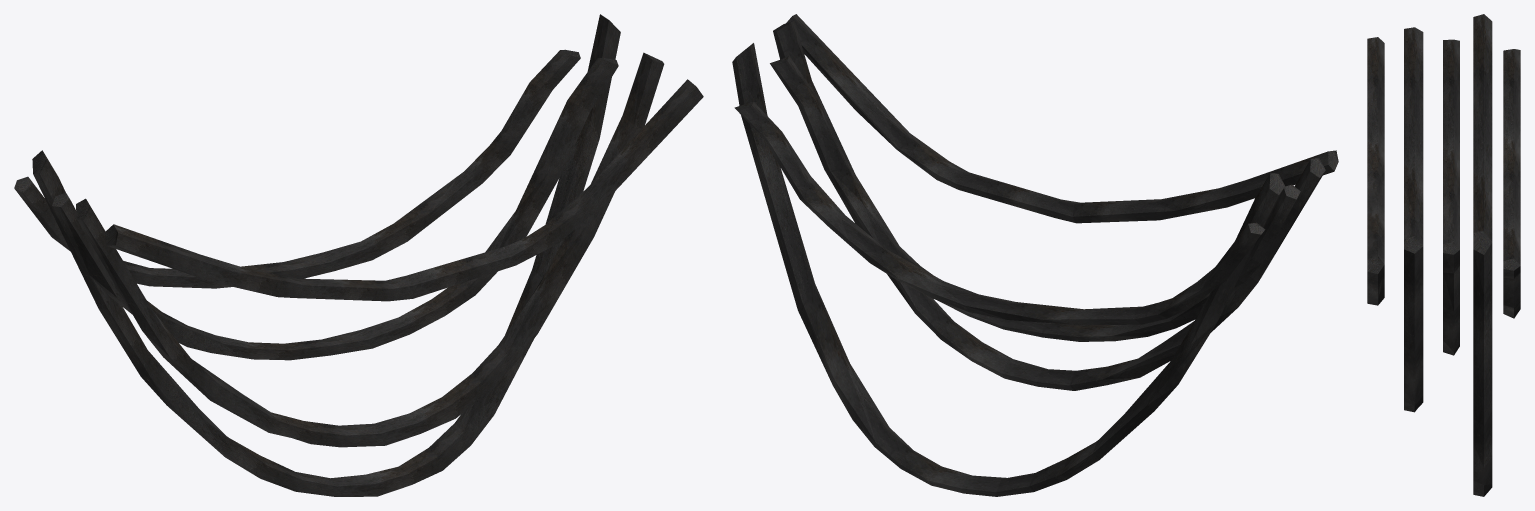
The model's file is kabels.obj.
3 views of the same model, side by side, from view 1: azimuth 30°, elevation 25°; view 2: azimuth 150°, elevation 25°; view 3: azimuth 270°, elevation 25° (orthographic). The views are drawn at different scales.
Parts seen in each view (by area): view 1: Group; view 2: Group; view 3: Group.
Part boxes in pixels (left/top/right/bottom): Group: left=14, top=14, right=703, bottom=496; Group: left=732, top=14, right=1338, bottom=496; Group: left=1367, top=14, right=1520, bottom=496.
Bounding box in the file's own units: 220 × 149 × 61.55.
